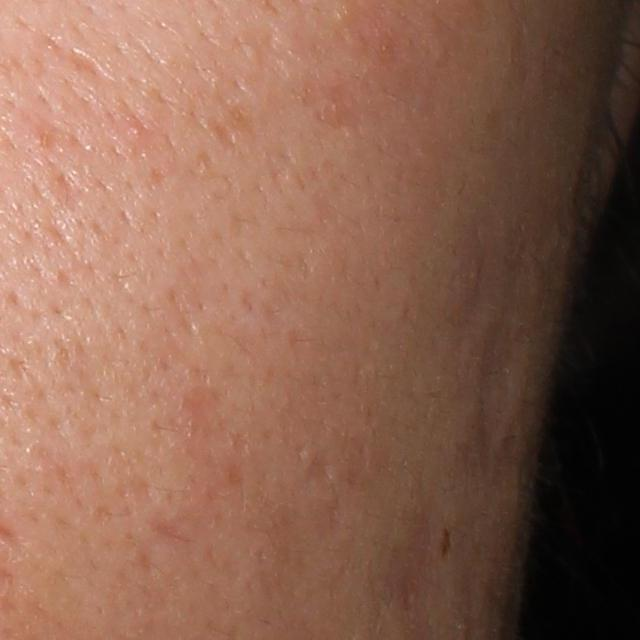atrophic_scar: (475, 258, 530, 442), (303, 446, 333, 487)
nevus: (437, 526, 456, 562)
